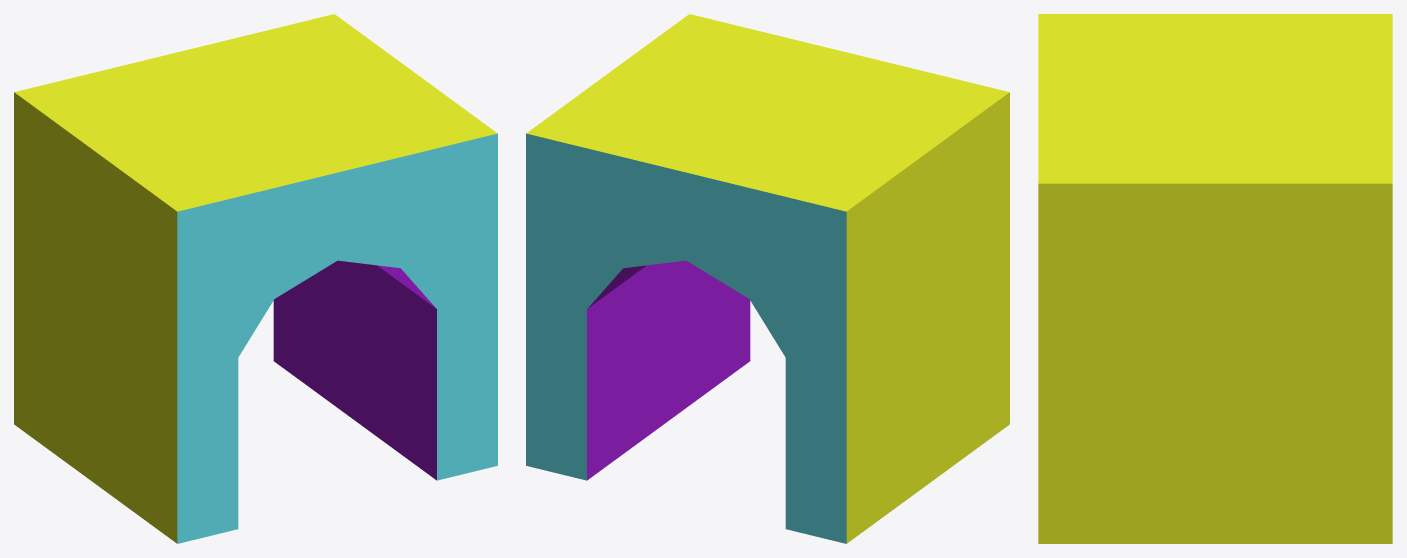
File: bridge.fbx
3 renders of one model, left to right at view 1: azimuth 30°, elevation 25°; view 2: azimuth 150°, elevation 25°; view 3: azimuth 270°, elevation 25°, orthographic. The views are drawn at different scales.
Visible parts, largest first — view 1: Box010; view 2: Box010; view 3: Box010.
Part boxes in pixels (x1,y1,x2,y2): Box010: [14, 14, 497, 543]; Box010: [526, 14, 1009, 543]; Box010: [1038, 14, 1392, 543].
Size of the model in its own units: 61.58 by 61.03 by 54.36.
